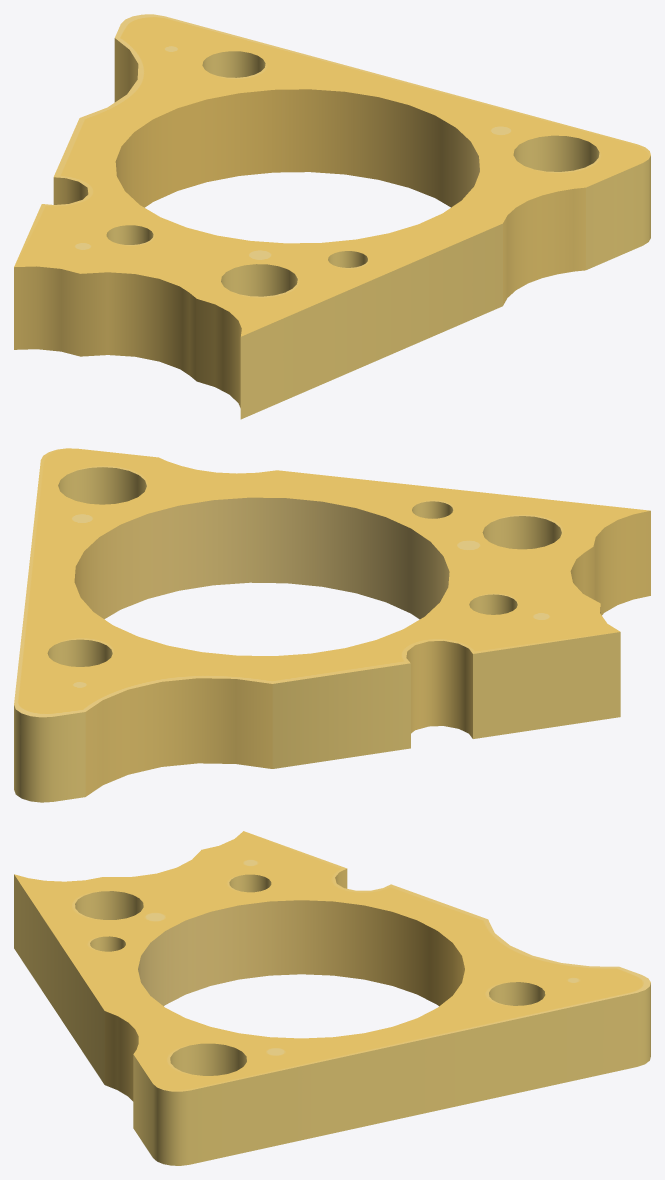
The model's file is Cheese.FBX.
The picture shows the model from 3 angles, top to bottom: view 1: azimuth 30°, elevation 25°; view 2: azimuth 150°, elevation 25°; view 3: azimuth 270°, elevation 25°; orthographic projection. The views are drawn at different scales.
Visible parts, largest first — view 1: Cheese; view 2: Cheese; view 3: Cheese.
Part boxes in pixels (bbox=[...]): Cheese: bbox=[14, 14, 650, 419]; Cheese: bbox=[14, 448, 650, 802]; Cheese: bbox=[14, 831, 650, 1165].
Bounding box in the file's own units: 52.8 × 7 × 54.5.
1 material, 1 textured.
